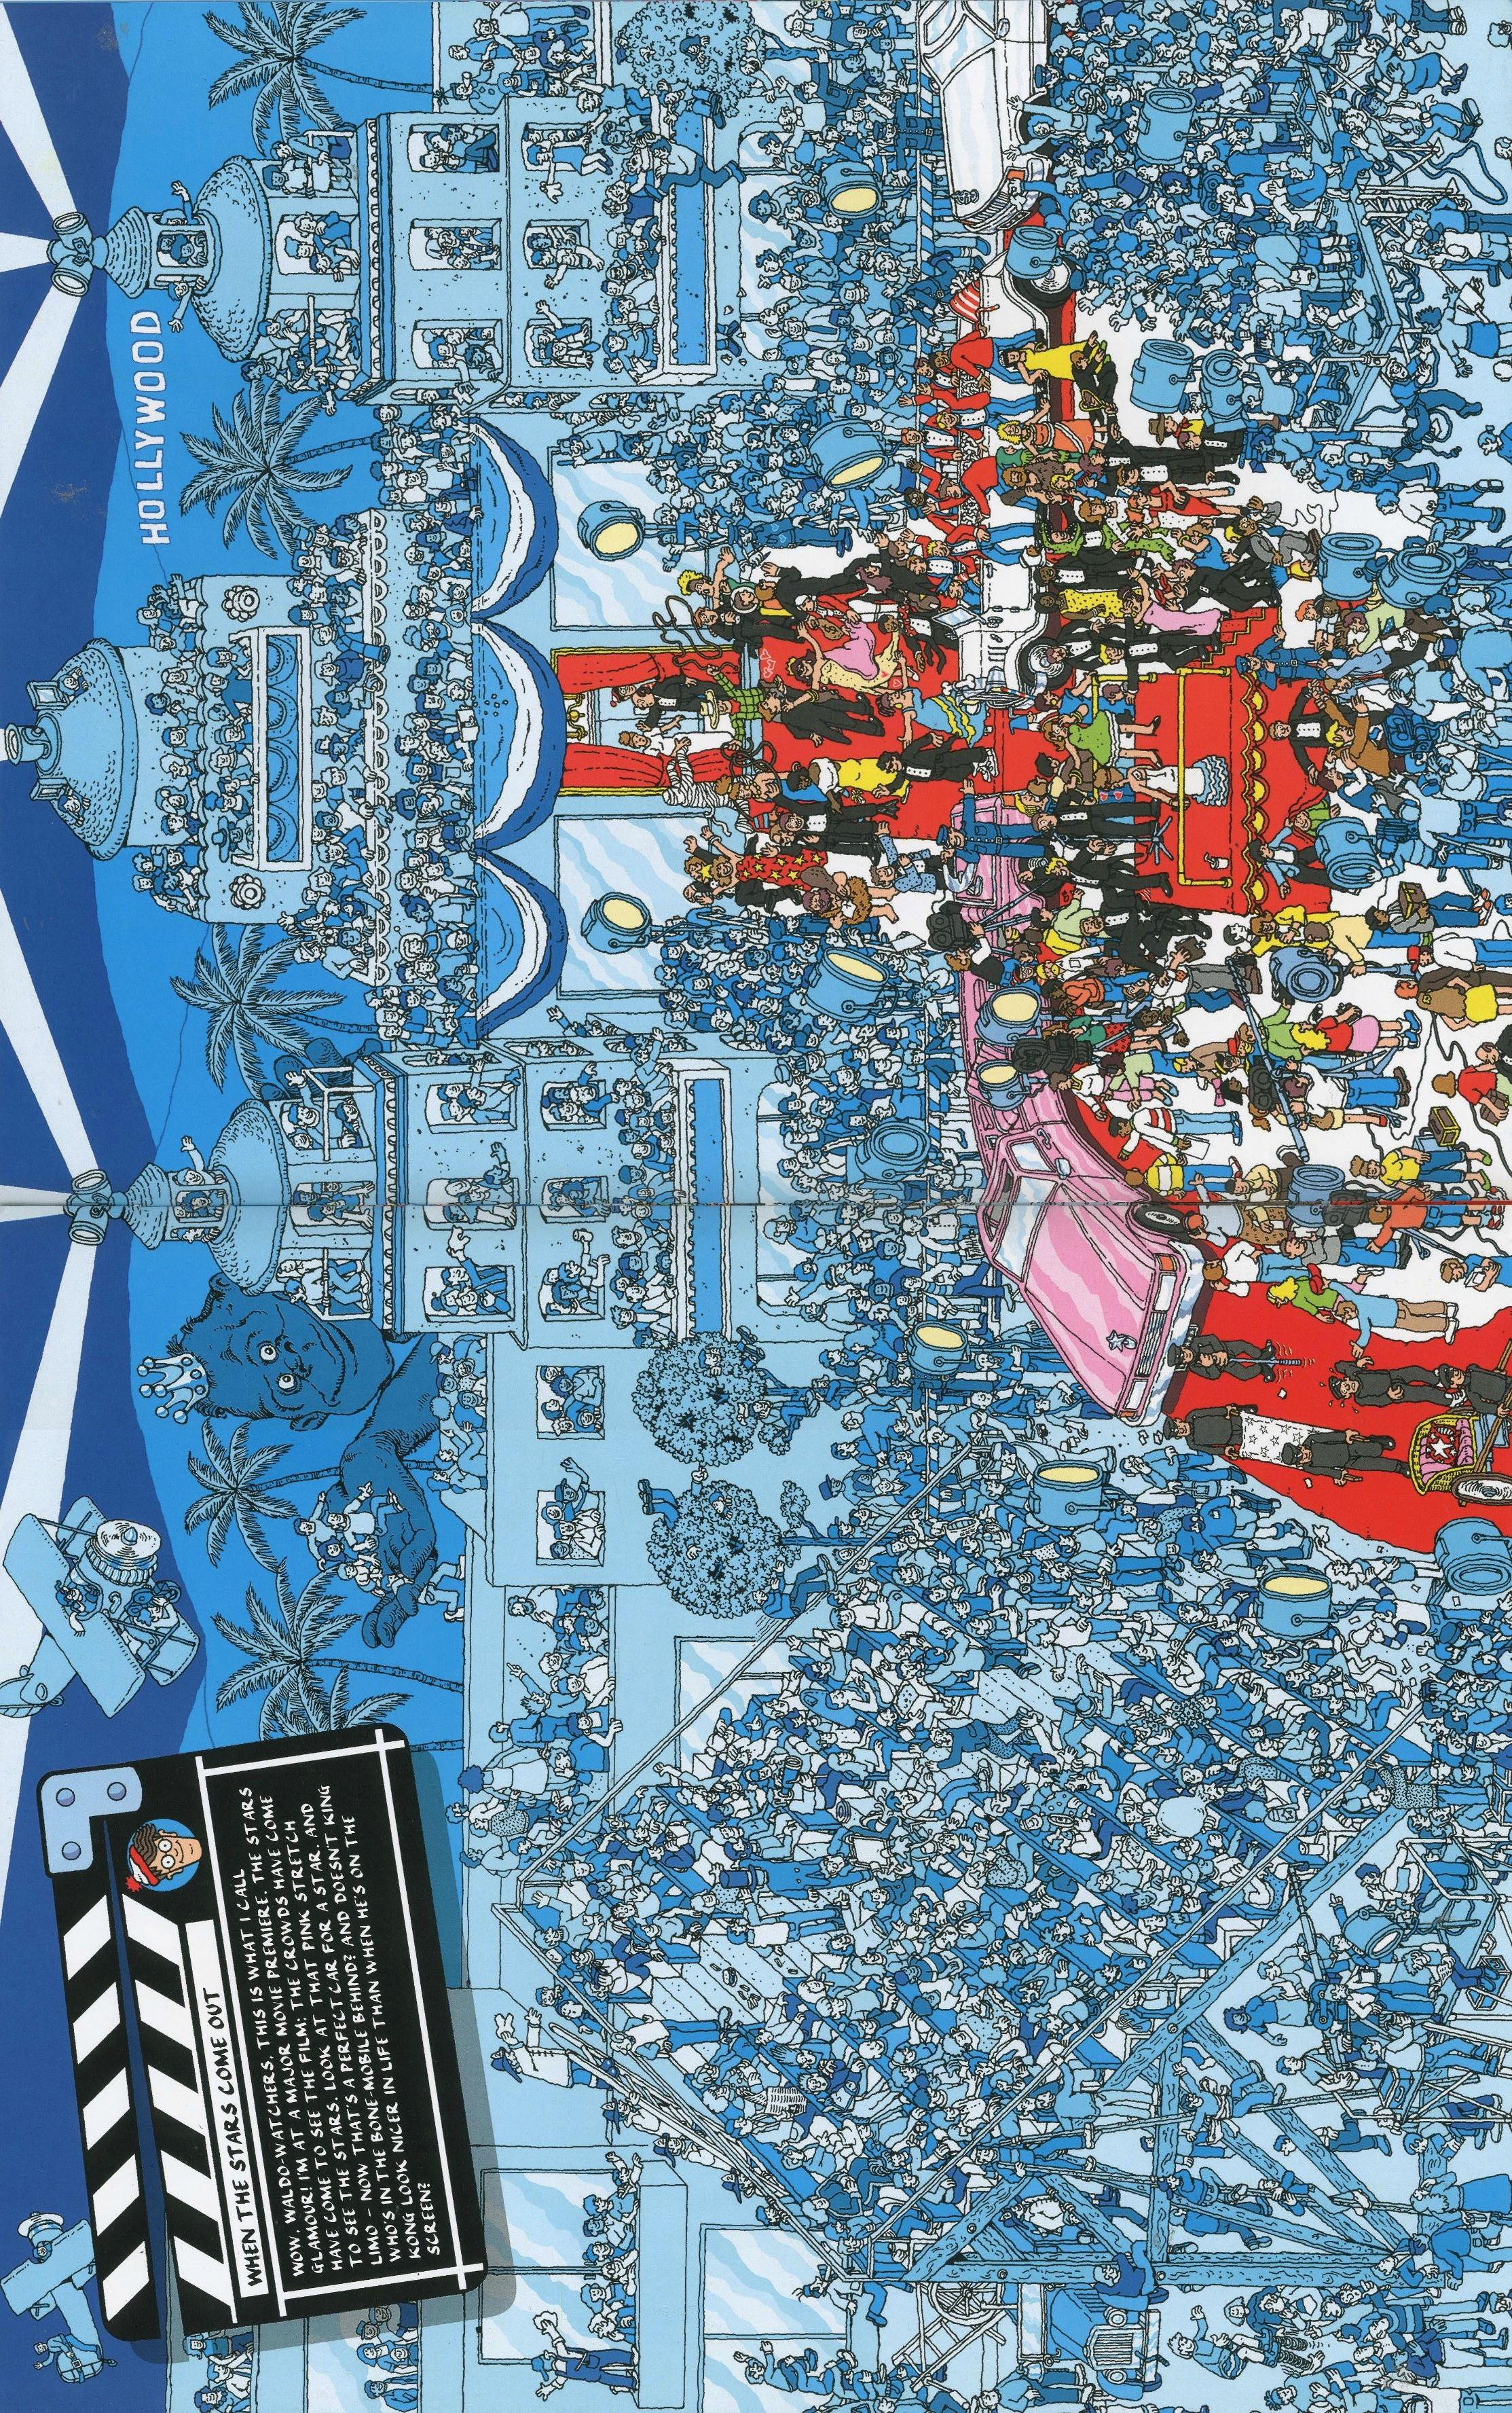waldos: (608, 679, 657, 709)
